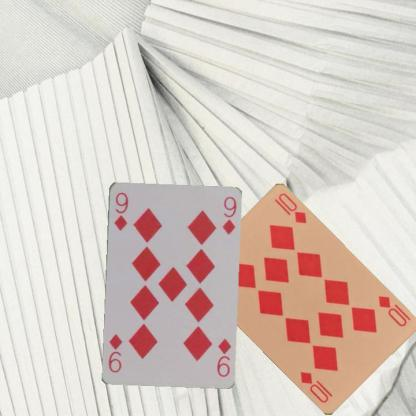10d: (375, 292, 408, 328)
9d: (214, 335, 232, 378), (111, 190, 129, 232)
